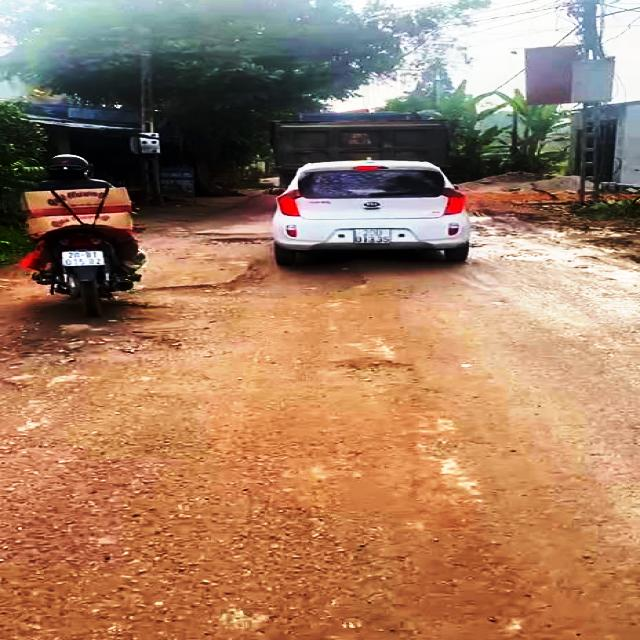pothole: (136, 272, 372, 299), (30, 332, 189, 362), (331, 357, 421, 386), (198, 236, 274, 247)
